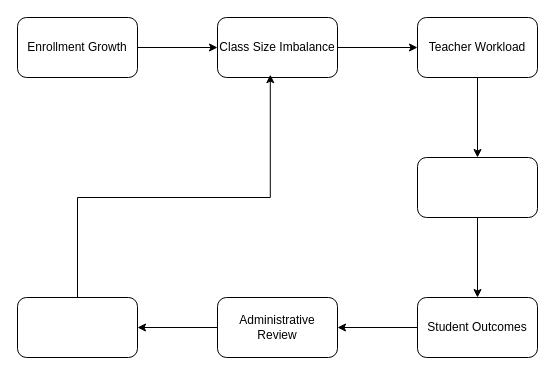
This 555x375 diagram has some shape labels left out. Each missing label, with the box of its shape:
Instruction Quality: (416, 156, 538, 218)
Resource Allocation Adjustments: (16, 296, 138, 358)
